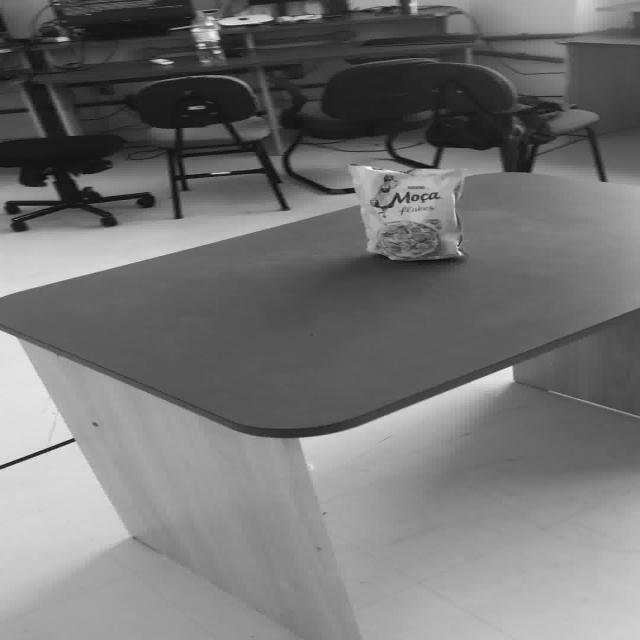corn flakes: (346, 163, 466, 260), (377, 220, 438, 257)
